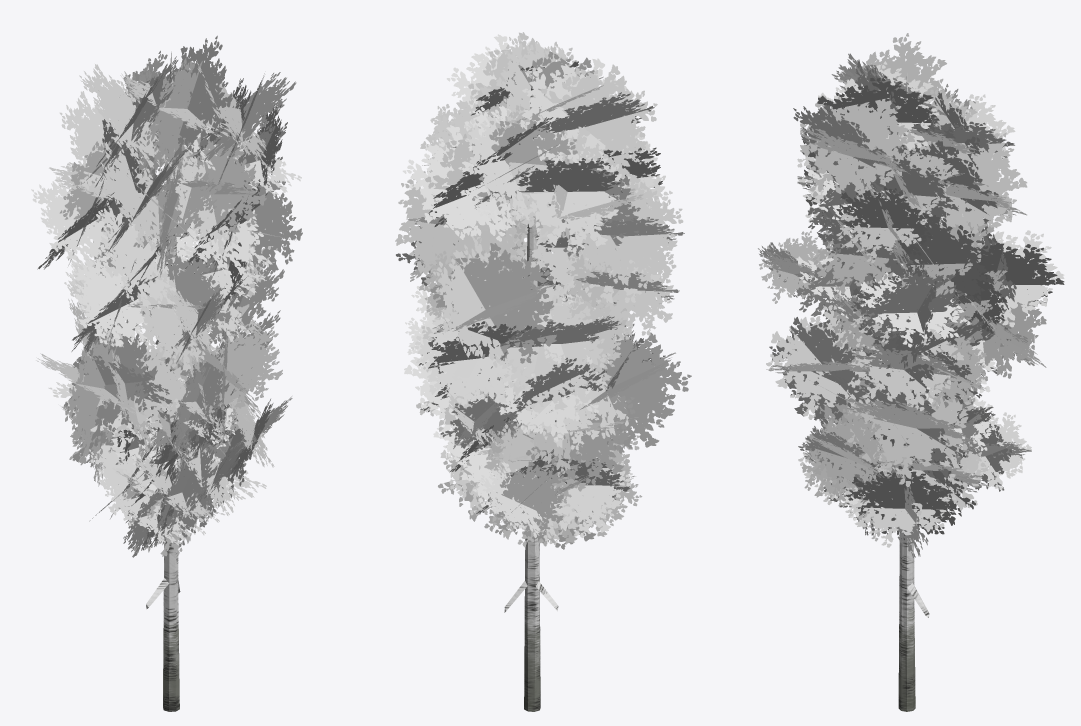
Rendered from Birch.fbx.
3 views of the same model, side by side, from view 1: azimuth 30°, elevation 25°; view 2: azimuth 150°, elevation 25°; view 3: azimuth 270°, elevation 25° (orthographic). The views are drawn at different scales.
Parts seen in each view (by area): view 1: Birch; view 2: Birch; view 3: Birch.
Boxes of the visible parts, x1=… form: Birch: x1=31, y1=35, x2=302, y2=711; Birch: x1=395, y1=32, x2=691, y2=711; Birch: x1=758, y1=33, x2=1064, y2=711.
Bounding box in the file's own units: 800 × 1746 × 766.
